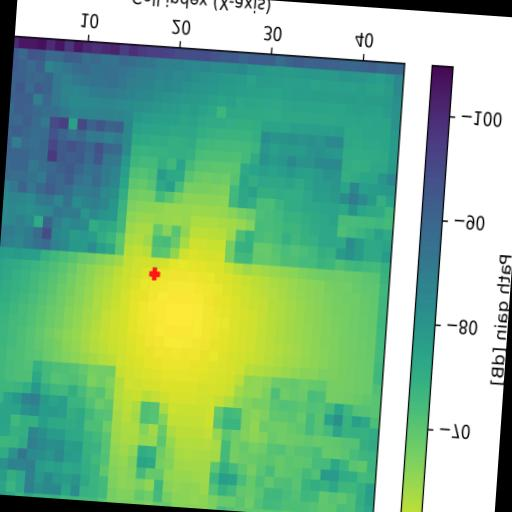Concrete: (234, 375, 328, 512)
Glass: (25, 361, 116, 502)
Metal: (252, 130, 346, 269)
Wood: (40, 106, 134, 255)
